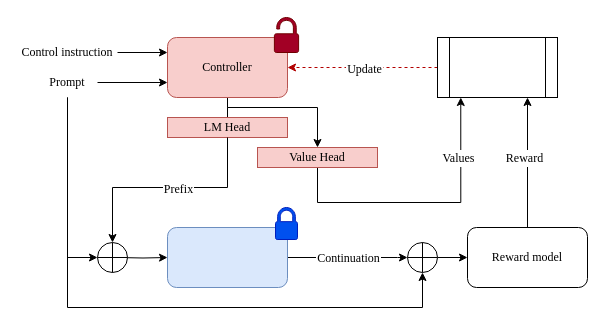
Some shapes in this 605 by 333 pixel diagram are drawn without their labels. Each missing label, with the centre of its shape:
"Base language model" goes at (227,257).
"PPO" goes at (497,67).
